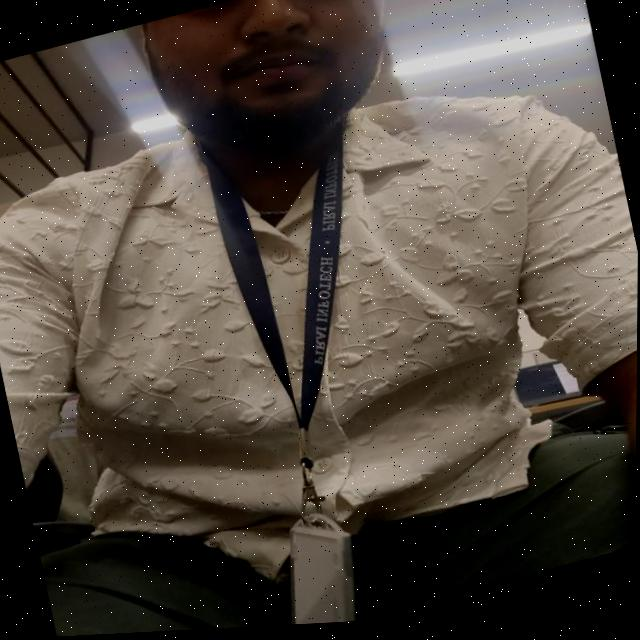id_card: (170, 104, 447, 633)
